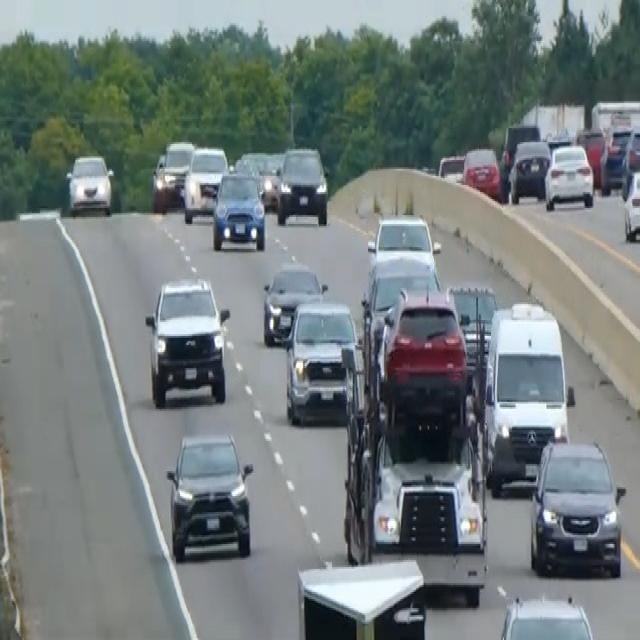car: (528, 436, 626, 578), (378, 282, 468, 433), (165, 428, 254, 562), (360, 251, 441, 384), (283, 295, 360, 425), (262, 259, 326, 345), (493, 588, 596, 638), (211, 167, 266, 251), (275, 144, 329, 226), (366, 212, 441, 266), (543, 140, 594, 212), (182, 144, 228, 222), (65, 151, 114, 215), (235, 149, 283, 210), (507, 137, 550, 203), (153, 139, 194, 208), (461, 144, 501, 201), (599, 123, 631, 192), (575, 124, 607, 185), (621, 165, 639, 242), (621, 121, 639, 194), (150, 151, 166, 208), (438, 151, 465, 180)
jeep: (143, 274, 231, 409)
minibus: (479, 297, 574, 485)
minivan: (499, 121, 540, 195)
truck: (295, 556, 427, 638)
